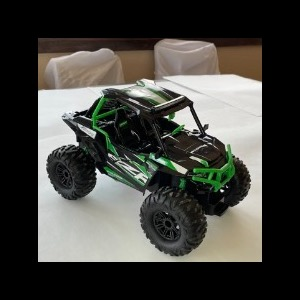polaris: (45, 77, 252, 256)
